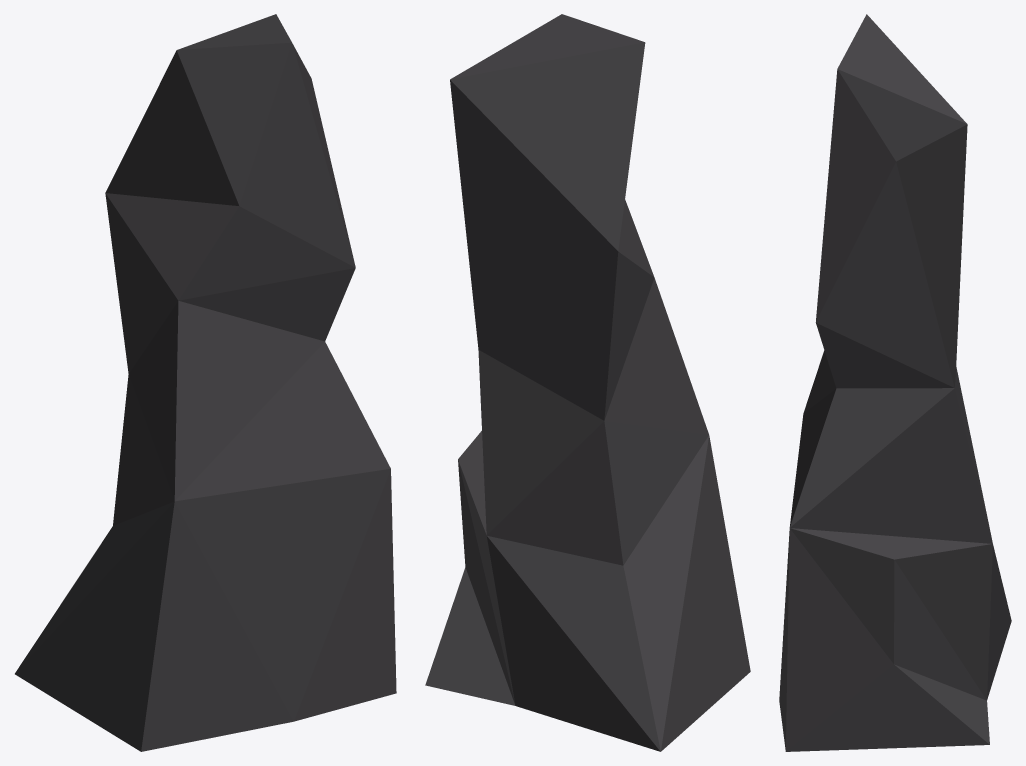
Rendered from AO_Rock08.fbx.
3 views of the same model, side by side, from view 1: azimuth 30°, elevation 25°; view 2: azimuth 150°, elevation 25°; view 3: azimuth 270°, elevation 25° (orthographic). The views are drawn at different scales.
Parts seen in each view (by area): view 1: AO_Rock08; view 2: AO_Rock08; view 3: AO_Rock08.
Boxes of the visible parts, bbox=[...] form: AO_Rock08: bbox=[15, 14, 396, 751]; AO_Rock08: bbox=[425, 14, 750, 751]; AO_Rock08: bbox=[779, 14, 1011, 751].
Size of the model in its own units: 82.32 by 193 by 62.36.
1 material, 1 textured.
